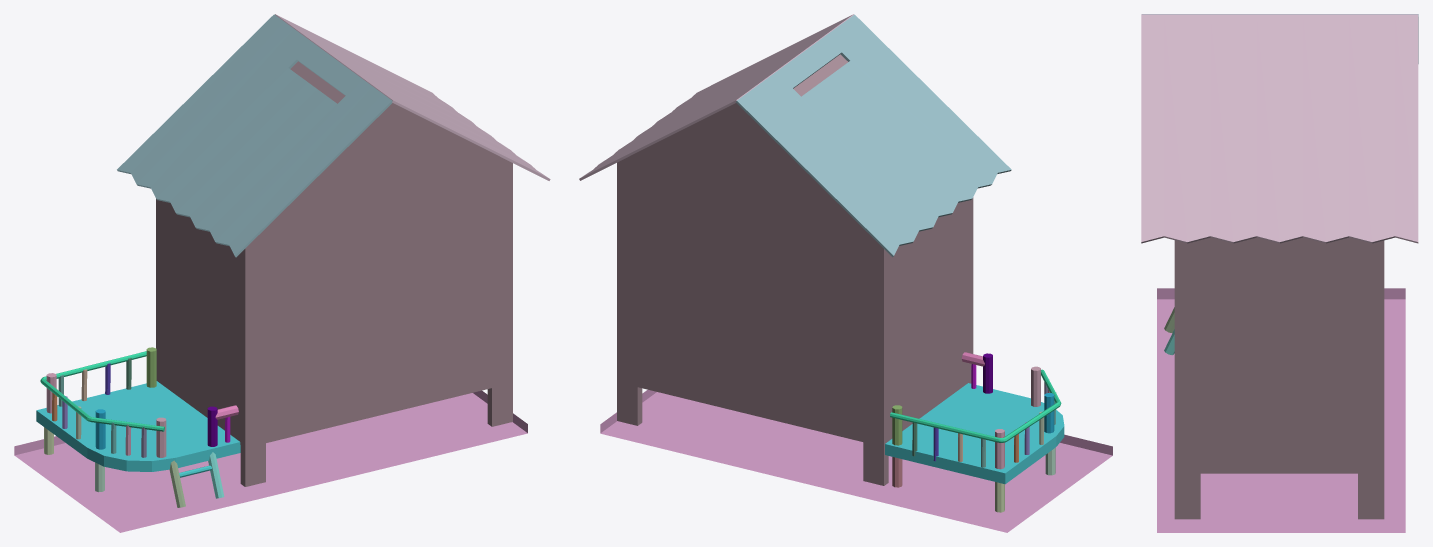
The picture shows the model from 3 angles, left to right: view 1: azimuth 30°, elevation 25°; view 2: azimuth 150°, elevation 25°; view 3: azimuth 270°, elevation 25°; orthographic projection. The views are drawn at different scales.
Parts seen in each view (by area): view 1: world; view 2: world; view 3: world.
Part boxes in pixels (bbox=[...]): world: bbox=[14, 14, 550, 532]; world: bbox=[579, 14, 1112, 532]; world: bbox=[1141, 14, 1418, 532].
Size of the model in its own units: 2 by 1.68 by 0.9653.
